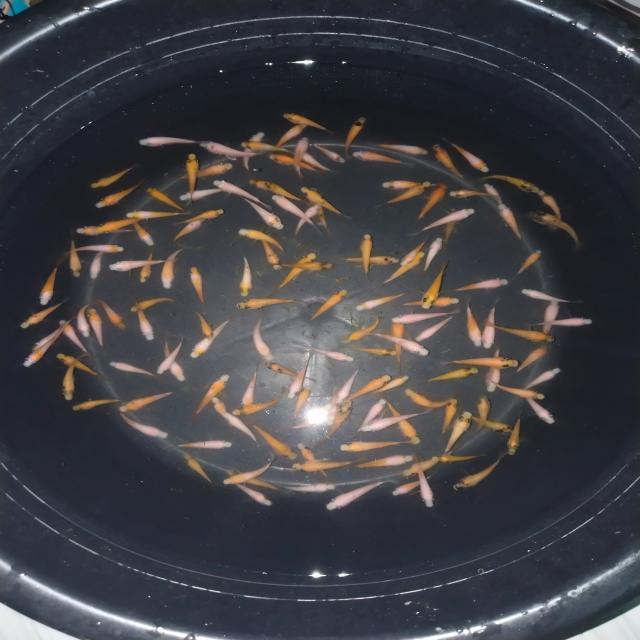nila: (518, 210, 584, 250), (325, 477, 396, 512), (270, 193, 324, 237), (450, 453, 504, 494), (270, 252, 318, 296), (354, 407, 428, 435), (210, 178, 274, 210), (191, 370, 230, 420), (190, 316, 234, 360), (412, 206, 476, 236), (376, 252, 428, 288), (411, 453, 442, 513), (402, 444, 464, 474), (364, 329, 432, 356), (252, 422, 300, 460), (18, 296, 69, 331), (227, 388, 286, 418), (428, 140, 470, 182), (440, 136, 489, 172), (317, 401, 356, 446), (386, 398, 422, 446), (306, 181, 338, 235), (30, 316, 77, 352), (118, 409, 172, 440), (434, 275, 510, 297), (304, 288, 348, 326), (224, 455, 276, 487), (484, 320, 556, 343), (376, 179, 431, 209), (120, 389, 181, 416), (414, 182, 451, 226), (390, 468, 444, 498), (226, 465, 286, 492), (93, 180, 146, 210), (237, 226, 290, 256), (60, 348, 88, 404), (53, 350, 105, 380), (301, 186, 351, 217), (177, 182, 250, 203), (494, 202, 528, 247), (267, 120, 312, 154), (280, 110, 338, 136), (420, 260, 450, 310), (244, 197, 287, 231), (86, 164, 138, 192), (222, 410, 261, 447), (56, 318, 92, 358), (518, 286, 586, 307), (346, 148, 417, 168), (478, 173, 552, 192), (92, 212, 146, 238), (489, 377, 550, 400), (296, 441, 331, 481), (286, 350, 314, 400), (267, 153, 325, 177), (441, 412, 474, 454), (193, 140, 270, 158), (405, 386, 458, 412), (352, 400, 388, 438), (240, 128, 270, 173), (233, 248, 260, 298), (228, 477, 276, 505), (346, 373, 392, 402), (286, 402, 330, 432), (174, 161, 234, 183), (157, 332, 187, 376), (37, 260, 65, 307), (20, 336, 58, 370), (340, 312, 380, 344), (536, 186, 568, 226), (264, 360, 322, 382), (128, 298, 156, 343), (292, 202, 325, 240), (163, 333, 188, 383), (389, 308, 458, 326), (158, 247, 186, 291), (354, 291, 407, 314), (88, 300, 126, 332), (263, 180, 309, 206), (352, 453, 417, 471), (258, 227, 284, 272), (210, 396, 239, 436), (419, 366, 480, 385), (184, 455, 218, 489), (108, 256, 180, 272), (288, 457, 364, 472), (514, 344, 552, 374), (369, 138, 432, 156), (240, 140, 303, 158), (414, 315, 454, 343), (388, 313, 406, 375), (147, 185, 188, 212), (240, 362, 262, 412), (522, 366, 564, 392), (524, 394, 558, 426), (252, 316, 275, 363), (462, 414, 516, 434), (168, 215, 208, 242), (108, 359, 164, 378), (186, 263, 208, 311), (70, 396, 132, 413), (464, 297, 484, 349), (234, 296, 308, 310), (184, 151, 202, 208), (399, 234, 431, 266), (484, 344, 504, 394), (304, 343, 356, 362), (298, 147, 336, 173), (88, 306, 109, 353), (312, 139, 348, 166), (172, 208, 228, 225), (74, 300, 99, 338), (335, 369, 362, 404), (482, 298, 500, 350), (512, 248, 542, 279), (530, 316, 596, 330), (444, 357, 520, 369), (439, 394, 459, 439), (344, 115, 369, 151), (190, 309, 218, 341), (136, 134, 210, 146), (88, 240, 110, 280), (291, 384, 314, 422), (168, 438, 235, 451), (398, 295, 460, 309), (62, 242, 124, 256), (420, 236, 444, 272), (66, 232, 84, 280), (377, 177, 443, 190), (75, 226, 136, 240), (269, 260, 340, 272), (125, 296, 178, 312), (539, 298, 560, 338), (372, 374, 410, 396), (358, 233, 374, 283), (434, 450, 491, 464), (126, 209, 192, 221), (130, 217, 156, 247), (137, 248, 157, 286), (294, 132, 309, 182), (340, 441, 408, 452), (507, 415, 524, 458), (444, 188, 500, 201), (476, 393, 492, 437), (442, 206, 458, 250), (352, 343, 401, 357), (484, 180, 506, 208), (333, 256, 401, 265), (324, 388, 340, 426), (278, 484, 336, 494), (246, 178, 280, 192)
